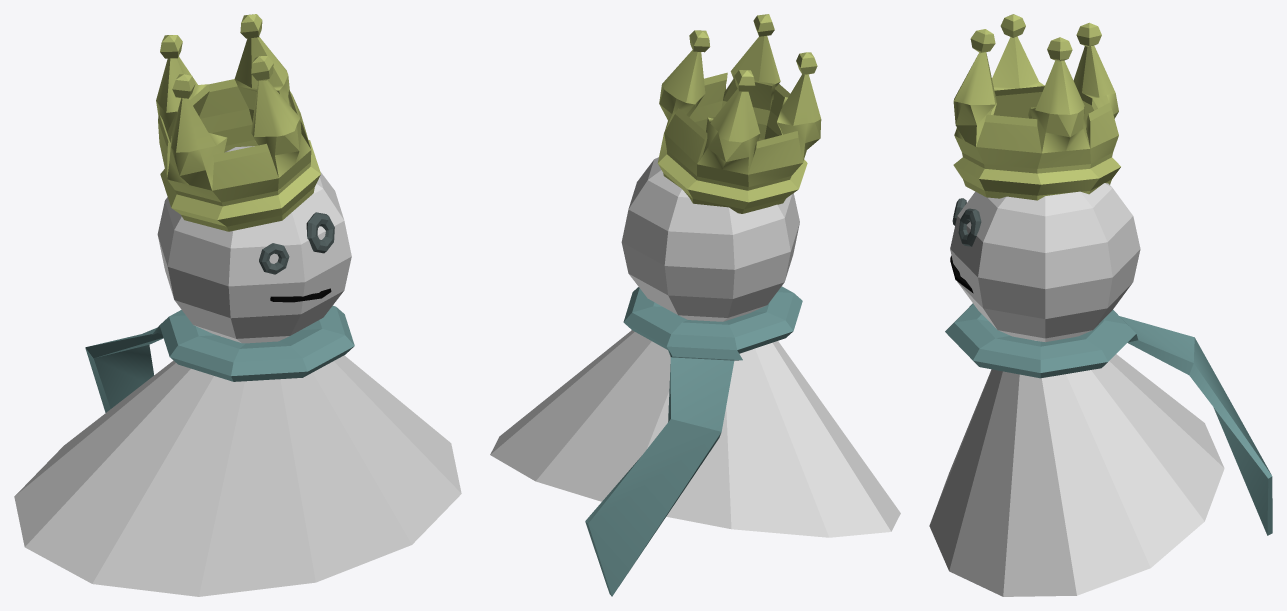
The model's file is player.fbx.
3 views of the same model, side by side, from view 1: azimuth 30°, elevation 25°; view 2: azimuth 150°, elevation 25°; view 3: azimuth 270°, elevation 25° (orthographic). The views are drawn at different scales.
Parts seen in each view (by area): view 1: pCone6; view 2: pCone6; view 3: pCone6.
Part boxes in pixels (x1,y1,x2,y2): pCone6: (14, 14, 461, 596); pCone6: (490, 14, 900, 596); pCone6: (929, 14, 1272, 596).
Bounding box in the file's own units: 3.51 × 4.17 × 2.58.
